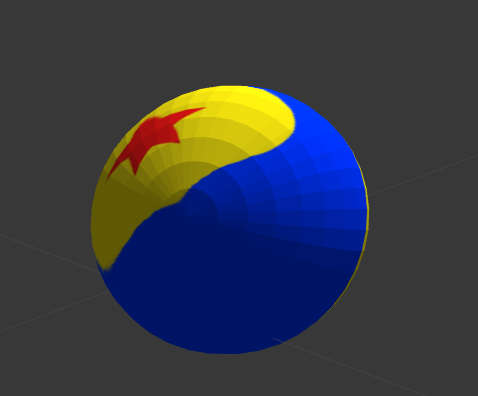toy story ball: (91, 84, 370, 355)
